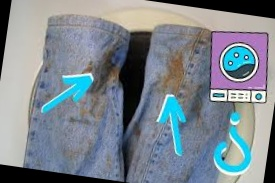earth: (163, 53, 188, 90), (100, 50, 120, 84)
